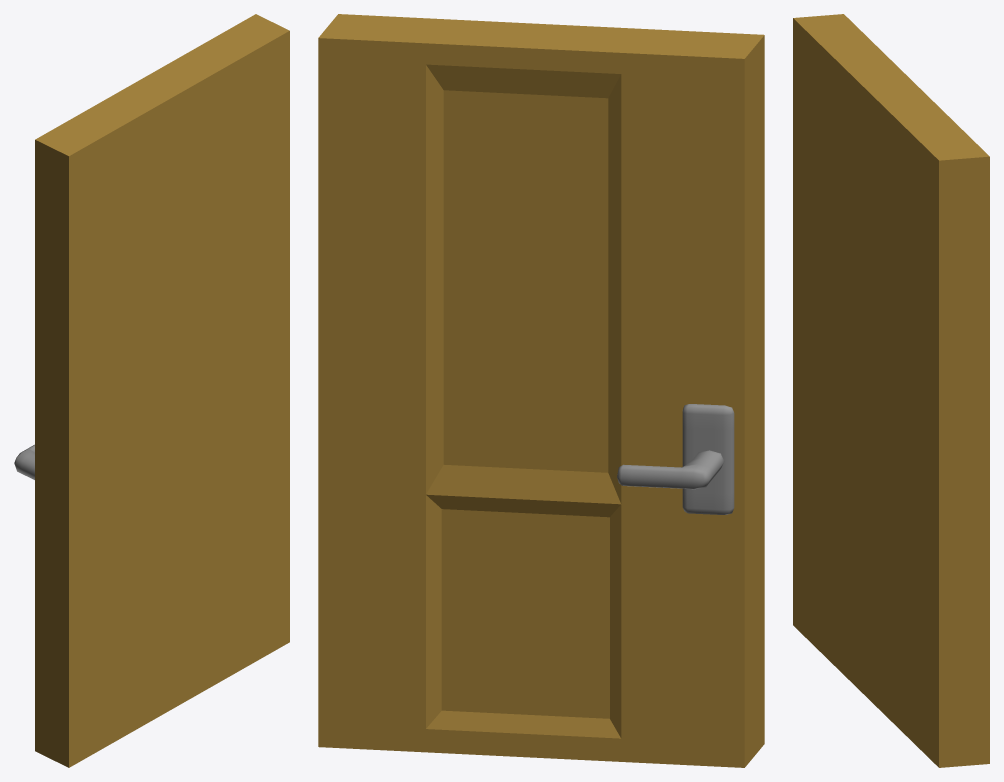
File: door_2.fbx
3 views of the same model, side by side, from view 1: azimuth 30°, elevation 25°; view 2: azimuth 150°, elevation 25°; view 3: azimuth 270°, elevation 25° (orthographic). The views are drawn at different scales.
Visible parts, largest first — view 1: door4_pCube52; view 2: door4_pCube52; view 3: door4_pCube52.
Boxes of the visible parts, left/top/right/bottom form: door4_pCube52: left=14, top=14, right=289, bottom=767; door4_pCube52: left=318, top=14, right=764, bottom=767; door4_pCube52: left=793, top=14, right=989, bottom=767.
Size of the model in its own units: 12.08 by 23.32 by 6.85.
